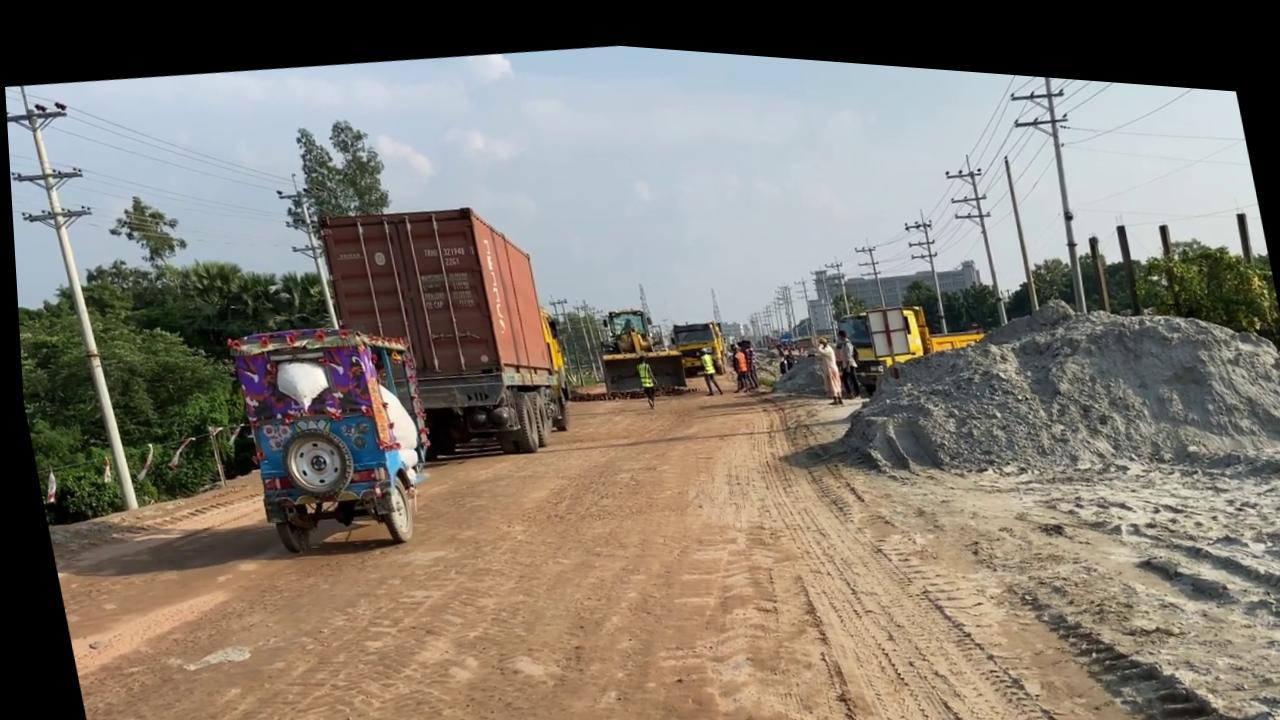Muddy road: (12, 229, 1280, 720)
Pole: (4, 79, 143, 517), (998, 58, 1107, 302), (939, 135, 1010, 314), (999, 138, 1036, 295)
Tree: (309, 179, 576, 470), (220, 304, 442, 560), (828, 275, 994, 392), (584, 289, 687, 395), (662, 305, 726, 369), (784, 301, 814, 344)
